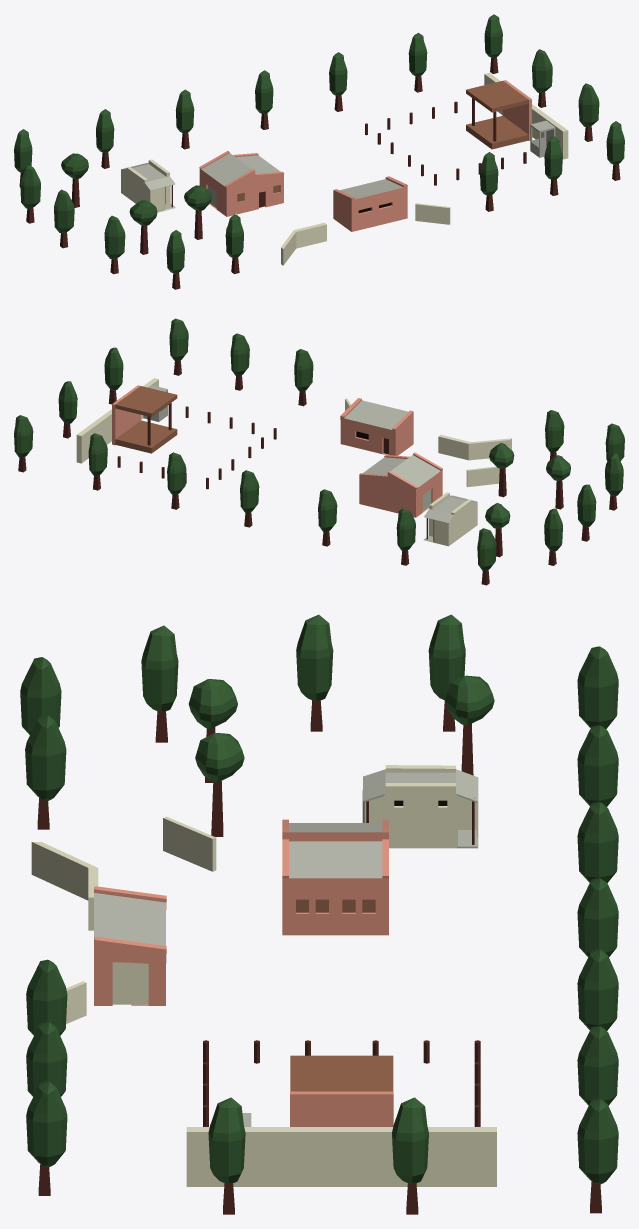
File: festival.gltf
The picture shows the model from 3 angles, top to bottom: view 1: azimuth 30°, elevation 25°; view 2: azimuth 150°, elevation 25°; view 3: azimuth 270°, elevation 25°; orthographic projection. The views are drawn at different scales.
Parts seen in each view (by area): view 1: Boleteria, CantinaDetras, Baños, Cantina, TarimaEsc, TechoEsc, PlacaPlacaEntrada2, ParedAtrasEsc, PlantaCopa28, PlantaCopa9, PlantaCopa26, PlantaCopa30 (+19 smaller); view 2: Boleteria, CantinaDetras, Baños, Cantina, TarimaEsc, TechoEsc, PlacaPlacaEntrada2, ParedAtrasEsc, ParedAtrasEsc.001, PlantaCopa23, PlantaCopa5, PlantaCopa1 (+18 smaller); view 3: ParedAtrasEsc, Cantina, Baños, Boleteria, TechoEsc, ParedAtrasEsc.001, PlantaCopa5, PlantaCopa11, PlantaCopa35, PlantaCopa23, PlantaCopa21, PlantaCopa15 (+17 smaller).
Boxes of the visible parts, box(x1,y1,x2,y2) form: Boleteria: box(333, 176, 407, 231); CantinaDetras: box(199, 151, 255, 216); Baños: box(121, 159, 175, 212); Cantina: box(233, 153, 283, 209); TarimaEsc: box(466, 115, 528, 149); TechoEsc: box(466, 80, 528, 112); PlacaPlacaEntrada2: box(281, 222, 326, 265); ParedAtrasEsc: box(484, 72, 568, 159); PlantaCopa28: box(54, 189, 74, 233); PlantaCopa9: box(532, 49, 552, 93); PlantaCopa26: box(20, 165, 40, 208); PlantaCopa30: box(104, 215, 125, 259); Boleteria: box(340, 398, 413, 455); CantinaDetras: box(387, 452, 442, 517); Baños: box(424, 492, 477, 546); Cantina: box(359, 455, 409, 510); TarimaEsc: box(115, 420, 177, 453); TechoEsc: box(115, 386, 177, 417); PlacaPlacaEntrada2: box(438, 435, 511, 460); ParedAtrasEsc: box(76, 378, 158, 463); ParedAtrasEsc.001: box(112, 385, 140, 445); PlantaCopa23: box(477, 528, 496, 571); PlantaCopa5: box(169, 318, 188, 361); PlantaCopa1: box(294, 349, 313, 392); ParedAtrasEsc: box(186, 1127, 496, 1186); Cantina: box(282, 839, 388, 935); Baños: box(362, 765, 478, 848); Boleteria: box(94, 886, 166, 1005); TechoEsc: box(290, 1055, 393, 1091); ParedAtrasEsc.001: box(290, 1091, 393, 1126); PlantaCopa5: box(26, 1081, 67, 1166); PlantaCopa11: box(577, 1098, 618, 1184); PlantaCopa35: box(25, 715, 66, 800); PlantaCopa23: box(577, 646, 618, 728); PlantaCopa21: box(577, 725, 618, 806); PlantaCopa15: box(577, 949, 618, 1030).
Bounding box in the file's own units: 25.72 × 2.82 × 13.01.
